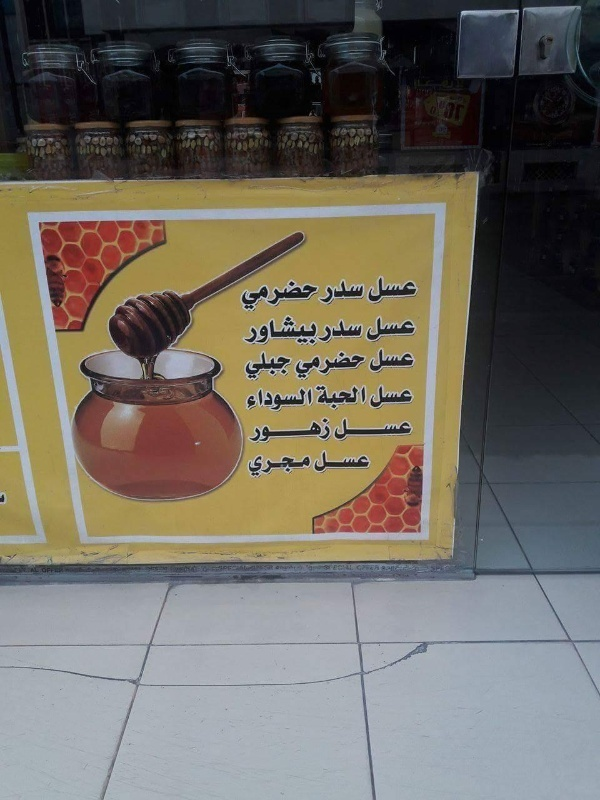text: (305, 316, 321, 347), (257, 279, 272, 312), (273, 279, 288, 312), (289, 279, 304, 312), (369, 274, 384, 306), (385, 274, 400, 306), (401, 274, 416, 306), (257, 351, 272, 383), (273, 351, 288, 383), (257, 415, 272, 446), (273, 415, 288, 446), (289, 415, 304, 446), (305, 415, 320, 446), (305, 351, 320, 382), (321, 351, 336, 382), (337, 351, 352, 382), (257, 316, 272, 347), (273, 316, 288, 347), (289, 316, 304, 347), (242, 279, 256, 312), (305, 279, 319, 312), (353, 384, 369, 412), (257, 384, 272, 413), (273, 384, 288, 413), (289, 384, 304, 413), (321, 415, 335, 446), (353, 351, 367, 382), (242, 316, 256, 347), (401, 347, 417, 374), (321, 384, 336, 412), (337, 384, 352, 412), (257, 451, 272, 479), (273, 451, 288, 479), (289, 451, 304, 479), (321, 279, 336, 307), (337, 279, 352, 307), (369, 347, 384, 374), (385, 347, 400, 374), (337, 417, 352, 444), (353, 417, 368, 444), (369, 417, 384, 444), (385, 417, 400, 444), (369, 316, 384, 343), (385, 316, 400, 343), (401, 316, 416, 343), (321, 319, 336, 346), (337, 319, 352, 346), (369, 384, 384, 410), (385, 384, 400, 410), (244, 351, 256, 383), (321, 451, 336, 476), (337, 451, 352, 476), (353, 451, 368, 476), (244, 415, 256, 446), (353, 279, 366, 307), (449, 102, 465, 124), (401, 417, 414, 444), (293, 351, 304, 382), (401, 384, 414, 410), (305, 384, 316, 413), (353, 319, 364, 346), (247, 451, 256, 479), (305, 451, 314, 479), (289, 351, 296, 383), (449, 78, 465, 91), (249, 384, 256, 413), (313, 384, 320, 412), (417, 78, 432, 91), (433, 78, 448, 91), (314, 451, 320, 476), (331, 417, 336, 444), (316, 319, 320, 346), (317, 279, 320, 307), (365, 316, 368, 343), (417, 274, 419, 306), (369, 451, 371, 476), (446, 102, 448, 124), (417, 316, 418, 343)
